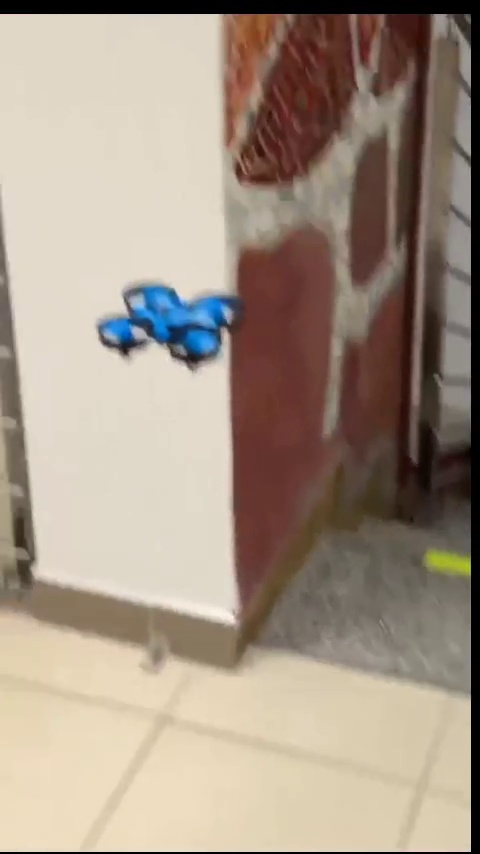drone: (86, 279, 262, 375)
